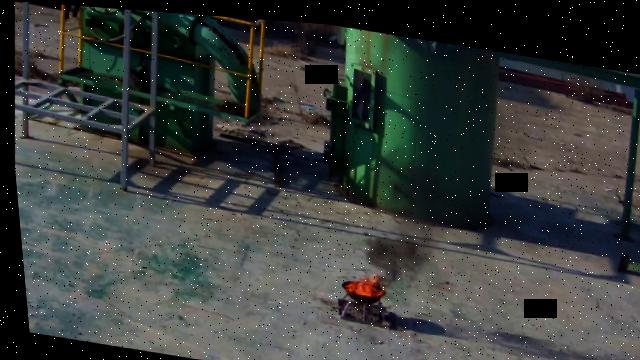fire: (337, 265, 382, 293)
smoke: (350, 147, 457, 290)
